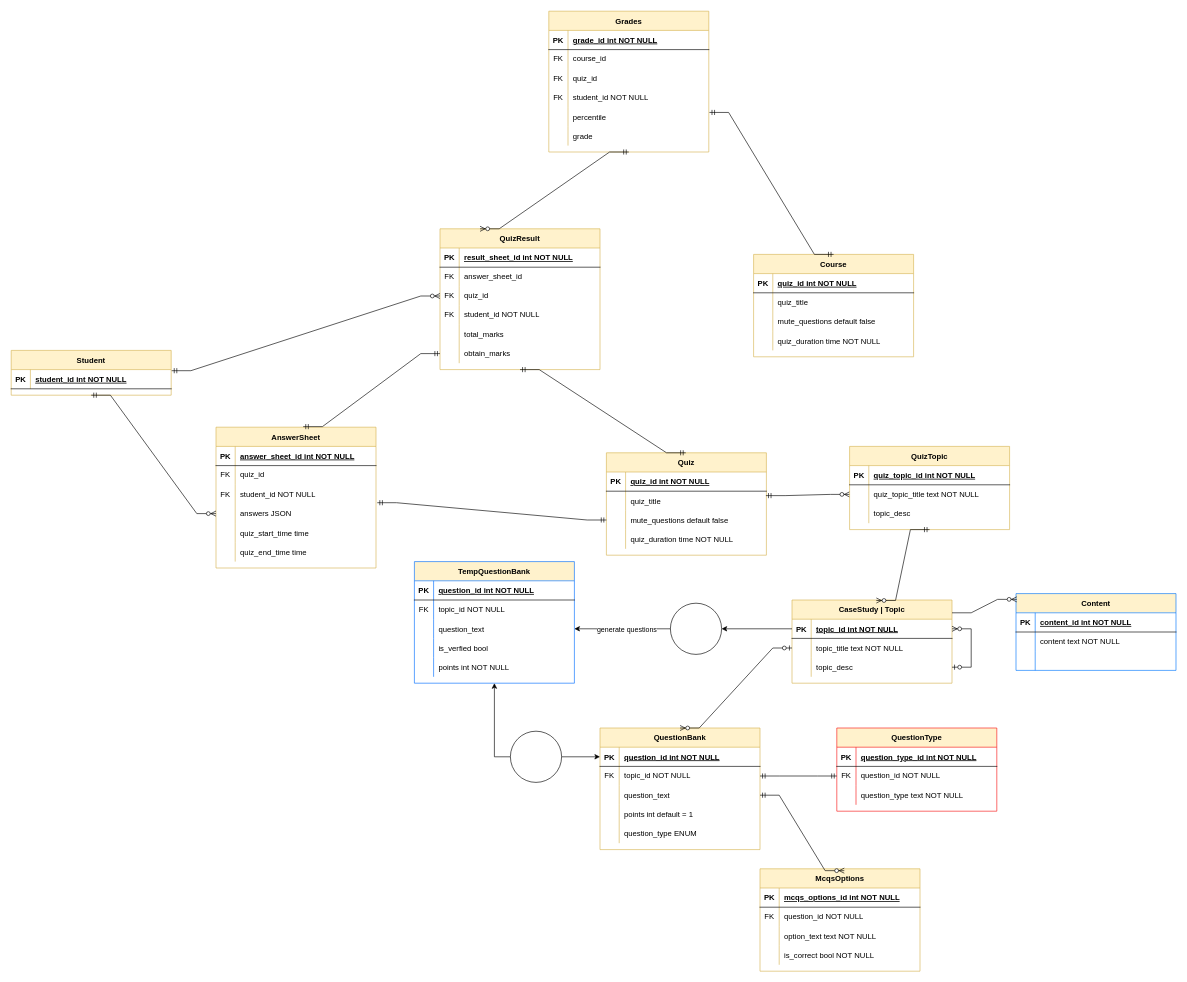
This 1187x982 diagram has some shape labels left out. The centre of each missing label's shape, as x and y in pixels:
"Triggers" goes at point (536, 756).
"wrapper CHATGPT" goes at point (696, 628).
